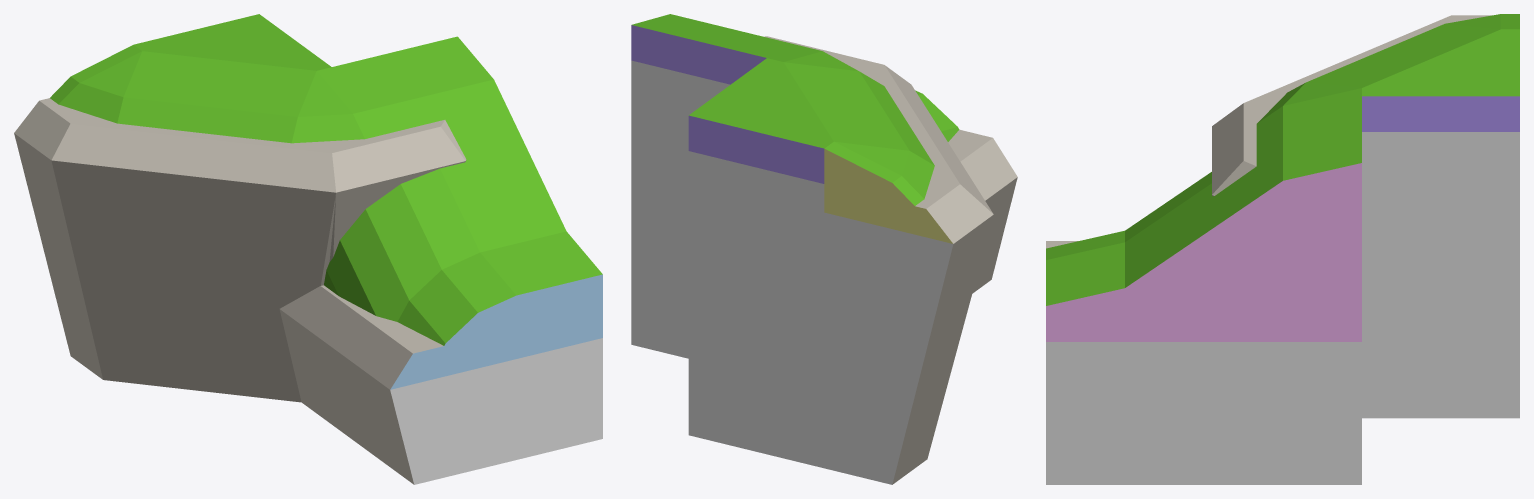
Rendered from Waterfall_Left_Top_Terrain_3x3.glb.
3 views of the same model, side by side, from view 1: azimuth 30°, elevation 25°; view 2: azimuth 150°, elevation 25°; view 3: azimuth 270°, elevation 25° (orthographic). The views are drawn at different scales.
Visible parts, largest first — view 1: Waterfall_Left_Top_Terrain_3x3; view 2: Waterfall_Left_Top_Terrain_3x3; view 3: Waterfall_Left_Top_Terrain_3x3.
Boxes of the visible parts, <box> form: Waterfall_Left_Top_Terrain_3x3: <box>14,14,602,484</box>; Waterfall_Left_Top_Terrain_3x3: <box>631,14,1017,484</box>; Waterfall_Left_Top_Terrain_3x3: <box>1046,14,1519,484</box>.
Size of the model in its own units: 295 by 225 by 300.
